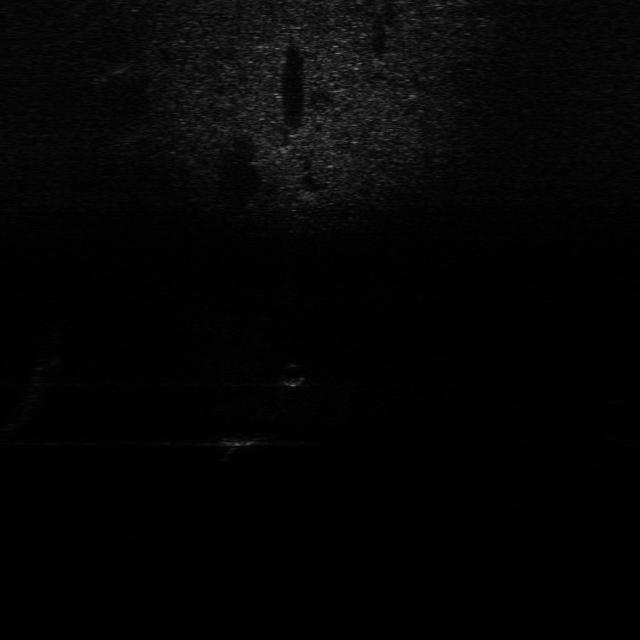ball: (273, 358, 309, 387)
square cage: (209, 428, 277, 451)
